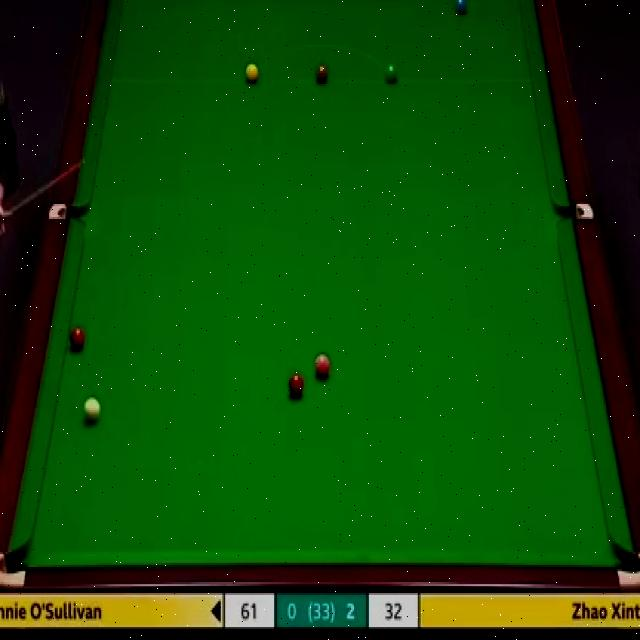blue-ball: (452, 0, 468, 15)
brown-ball: (314, 65, 329, 82)
green-ball: (384, 60, 399, 86)
pink-ball: (313, 352, 331, 378)
red-ball: (69, 326, 86, 350), (288, 372, 304, 396)
white-ball: (82, 396, 103, 426)
yellow-ball: (244, 62, 259, 84)
